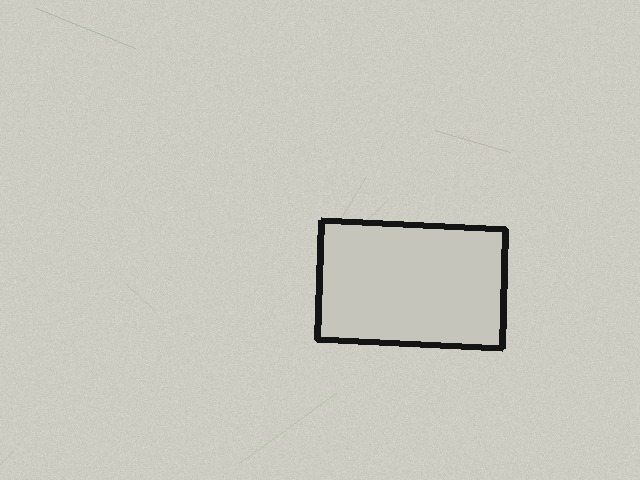parking_area: (317, 220, 505, 348)
